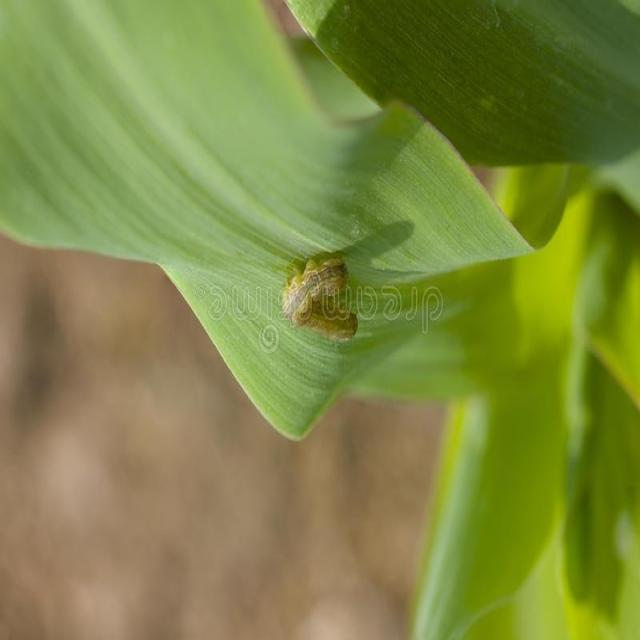army worm: (279, 257, 360, 343)
